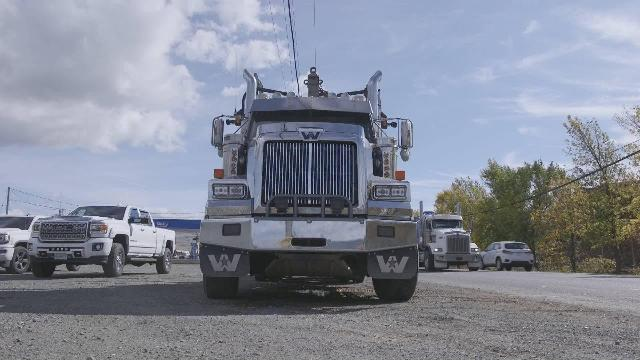truck: (182, 62, 428, 311)
